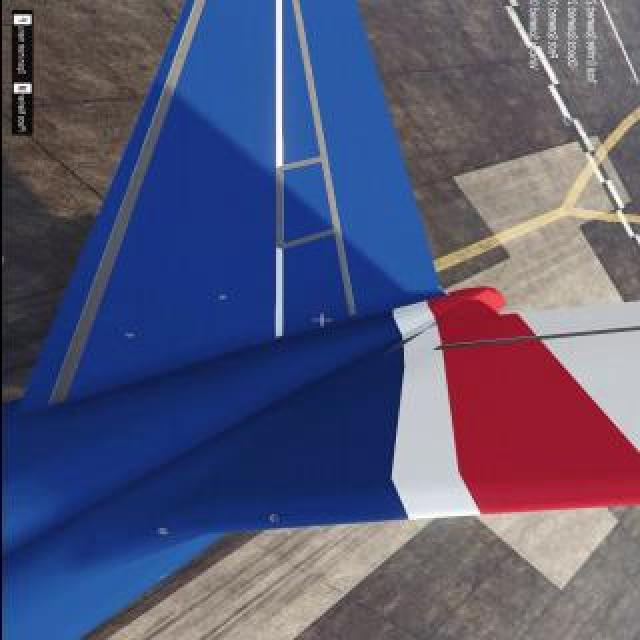crack: (266, 513, 282, 525), (154, 527, 172, 537), (119, 331, 137, 339), (214, 293, 226, 301)
